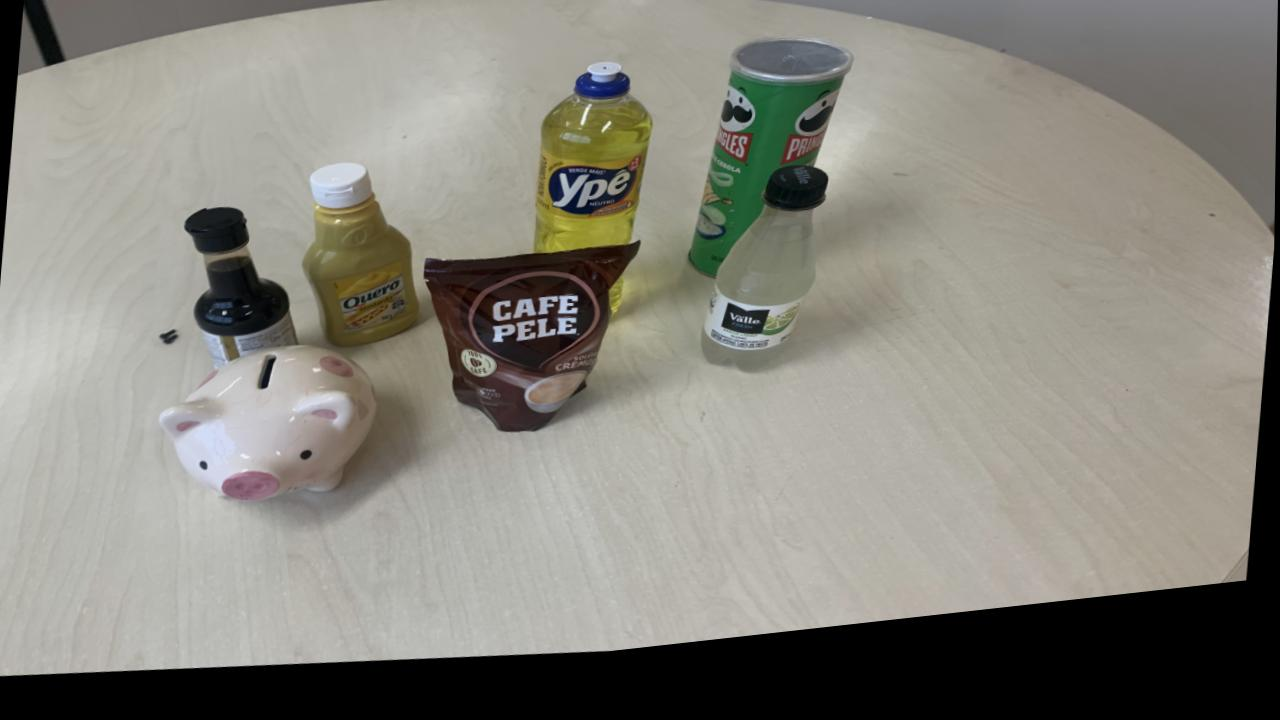Coffee-Pantry_Items: (424, 257, 640, 443)
Detergent-Cleanup_Items: (535, 75, 652, 266), (610, 293, 624, 325)
English_Sauce-Pantry_Items: (184, 213, 299, 373), (250, 425, 257, 429)
Mustard-Pantry_Items: (302, 170, 419, 354)
Pig_Safe-Miscellaneous: (160, 353, 378, 506)
Pringles-Snacks: (688, 55, 853, 293)
Soda-Drinks: (701, 184, 829, 389)
